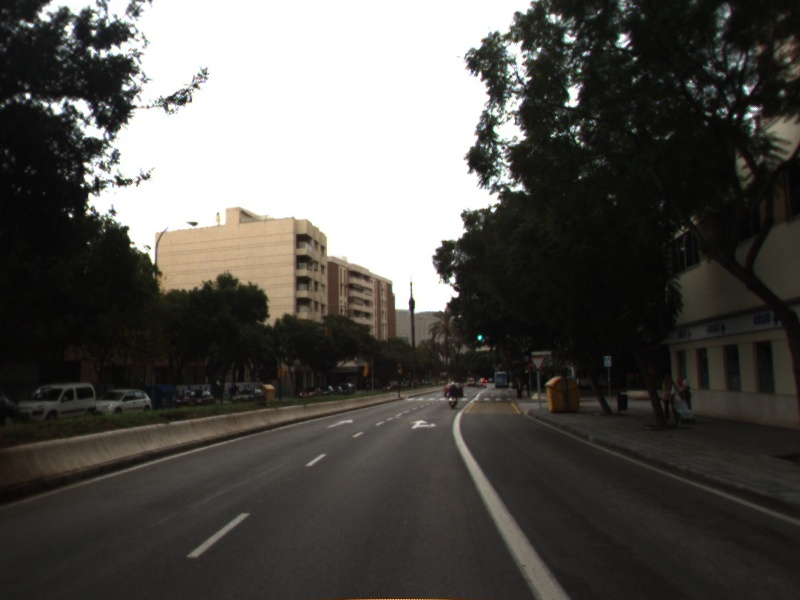STRAIGHT: (324, 417, 355, 430)
STRAIGHT_RIGHT: (407, 418, 439, 431)
